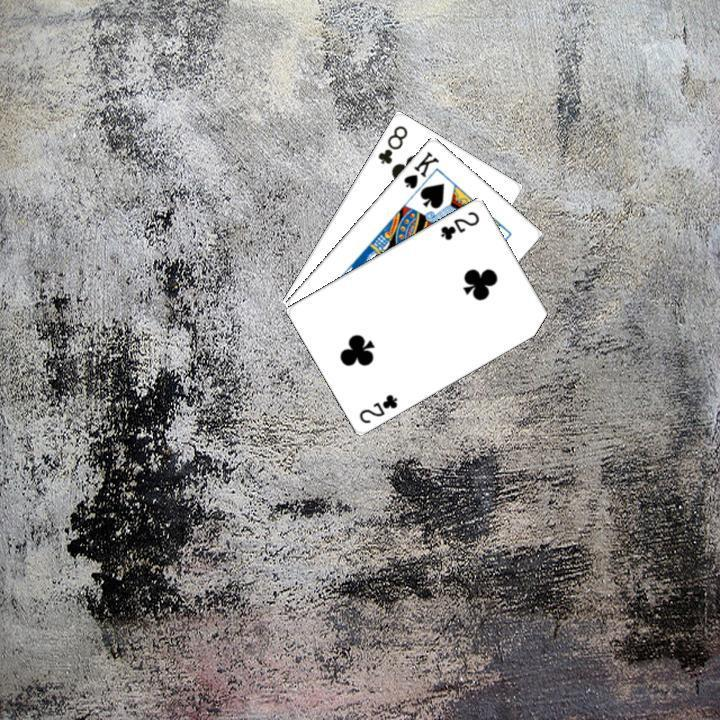2: (436, 206, 482, 242), (355, 389, 400, 425)
8: (373, 120, 410, 166)
K: (399, 146, 441, 191)
